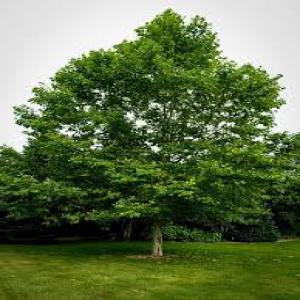Tree: (15, 7, 278, 256)
